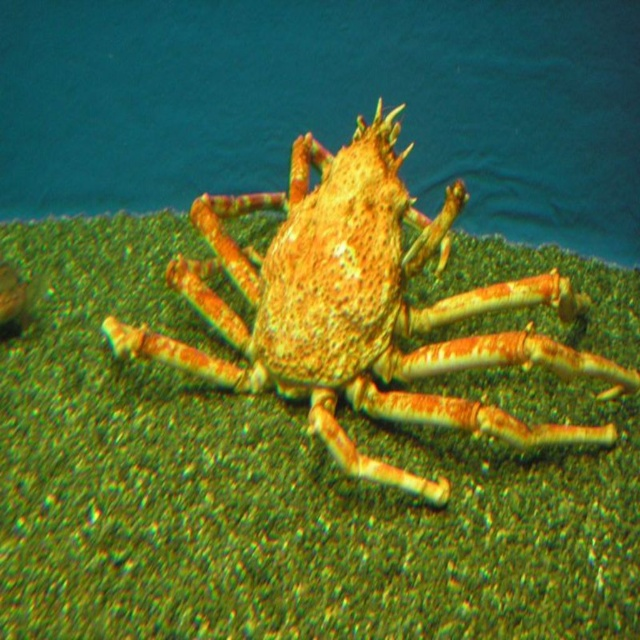Crab: (101, 96, 640, 508)
